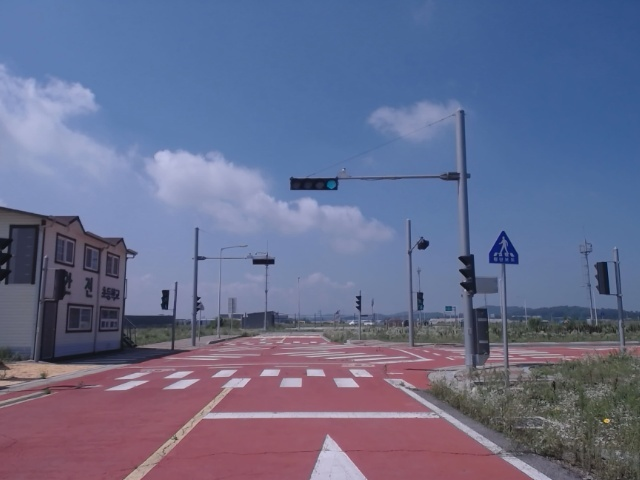straight_green_4: (289, 178, 340, 191)
